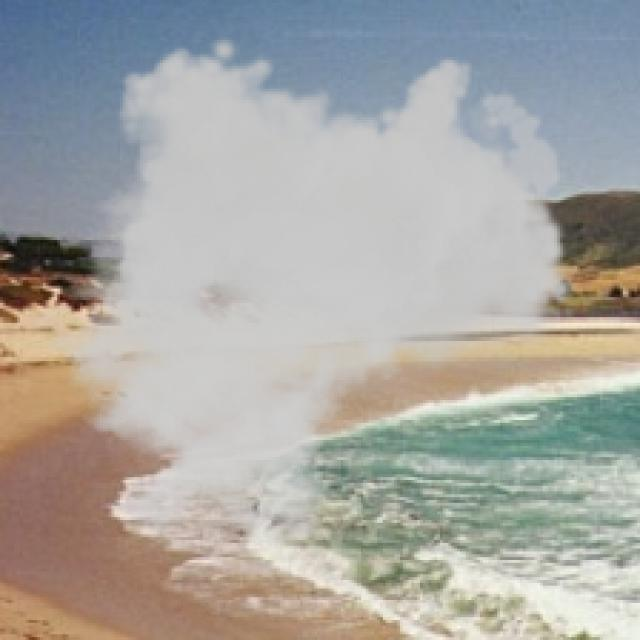Smoke: (22, 34, 578, 552)
